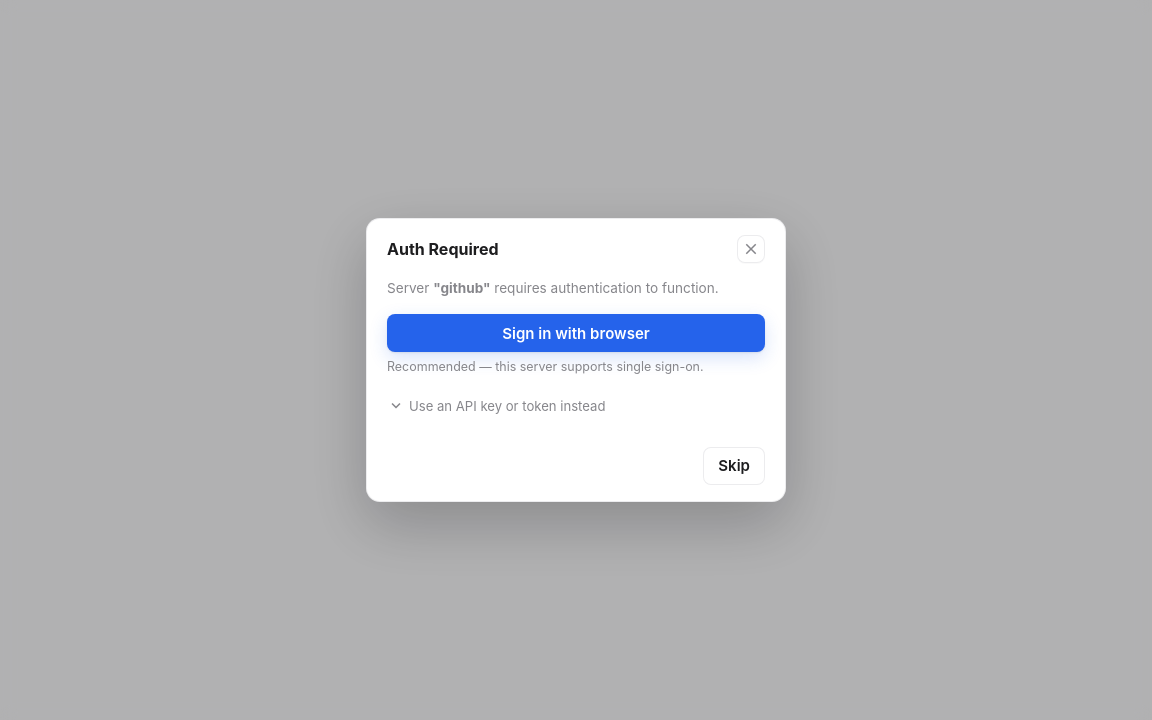
Scenario: AuthModal › shows a waiting panel with cancel/reopen once the browser step starts
The width and height of the screenshot is (1152, 720).
Click the button "Sign in with browser": (576, 333) [387,314,765,352]
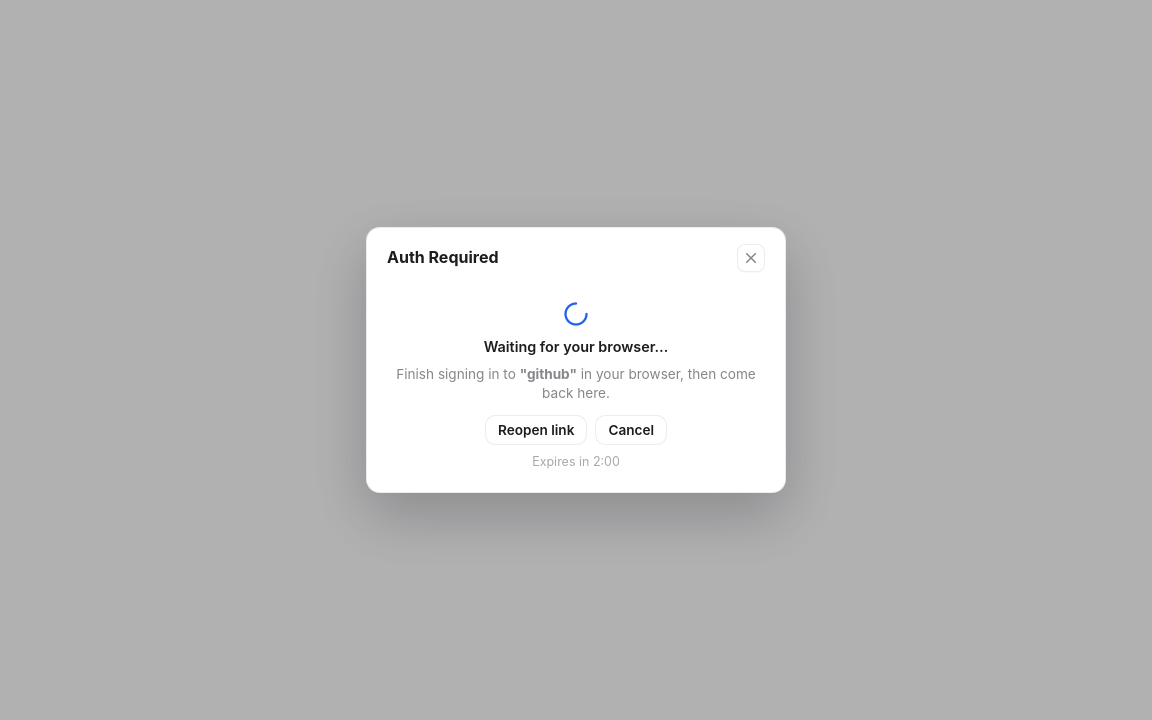
Result: the text "Waiting for your browser…" is shown at [484,336,668,357]
Result: the button "Cancel" is shown at [595,416,667,446]
Result: the button "Reopen link" is shown at [485,416,587,446]
